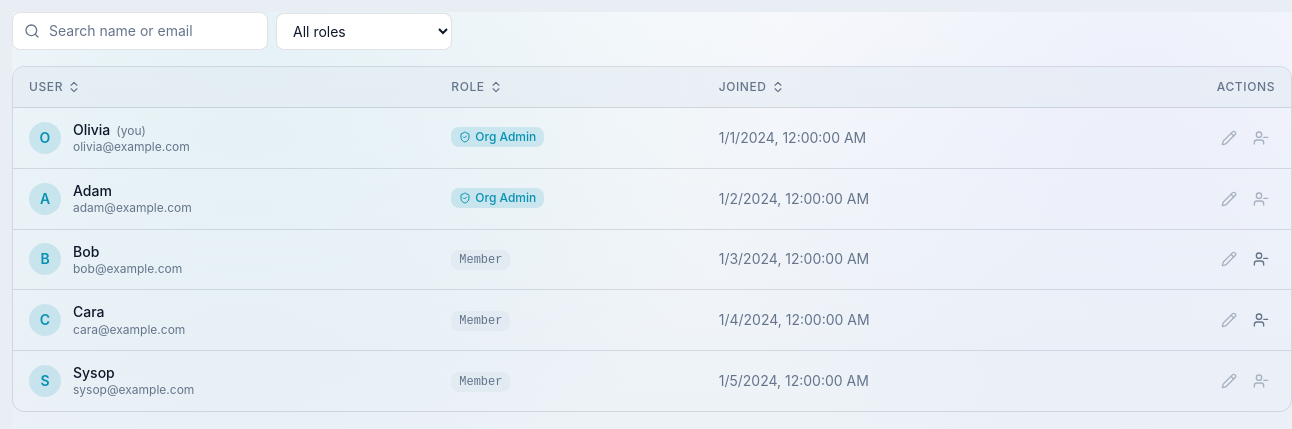
Test: MembersTable filtering › filters by name/email search
In the search field named "Search members": (140, 31) x1=12 y1=12 x2=268 y2=50, type "bo"
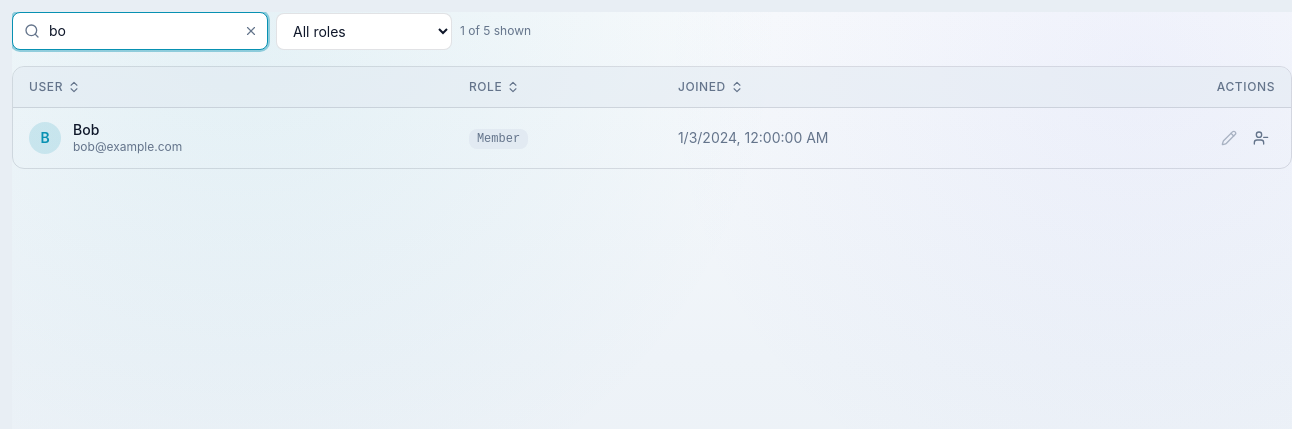
Expected: the text "Bob" is shown, x1=73 y1=121 x2=99 y2=138
Result: the text "Cara" is gone
Result: the text "1 of 5 shown" is shown at x1=460 y1=23 x2=531 y2=39
